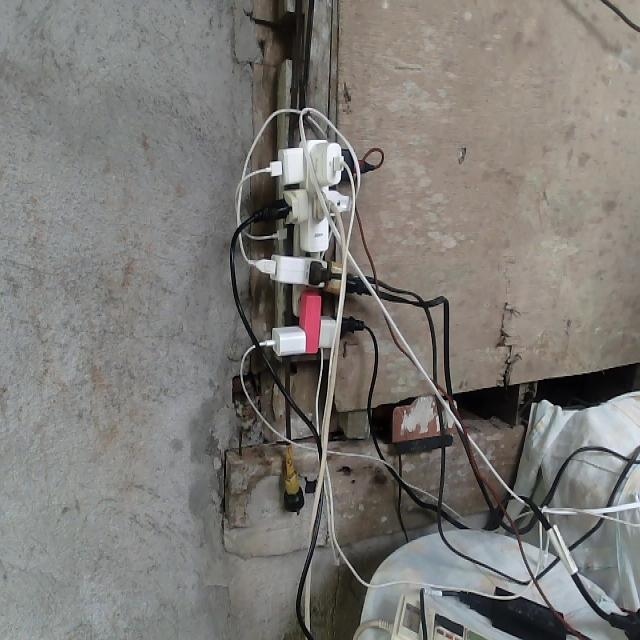-: (255, 134, 370, 354)
